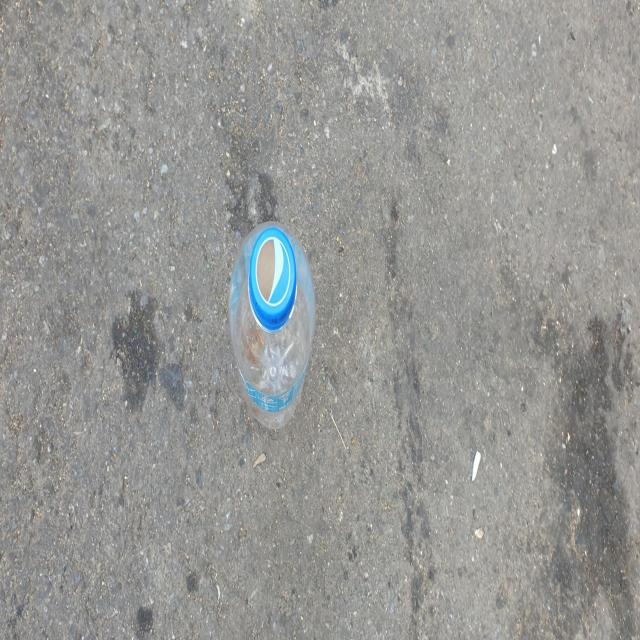plastic: (229, 222, 315, 428)
